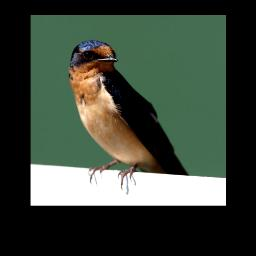Swallow: (70, 39, 189, 190)
